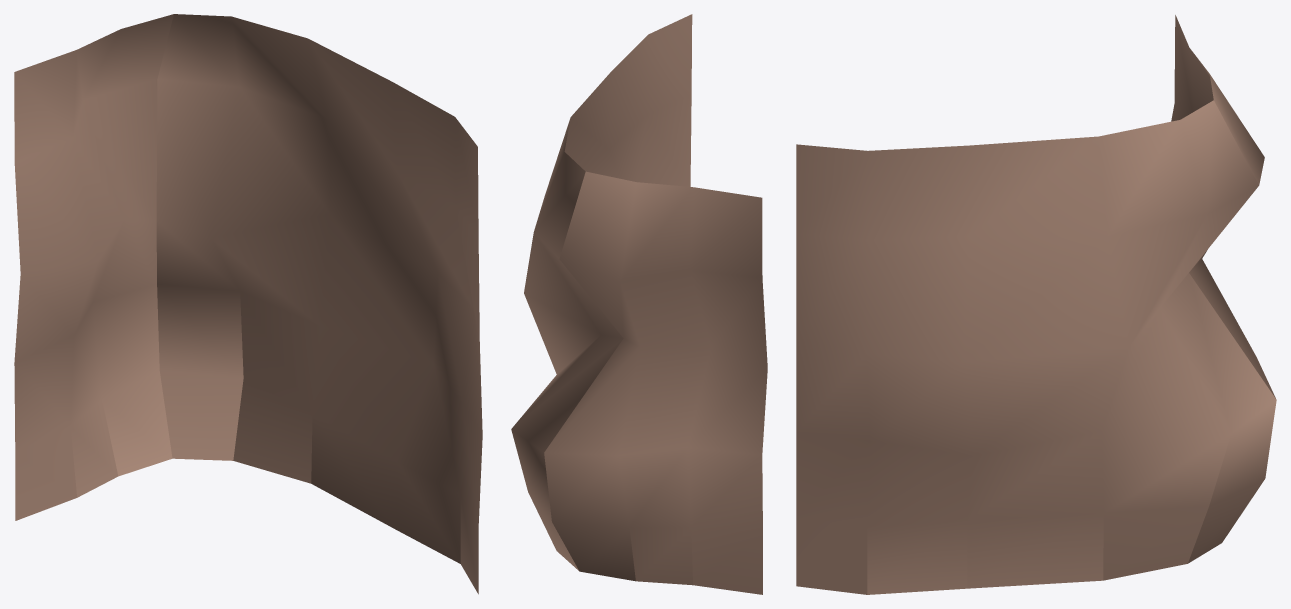
The model's file is corner middle 2.fbx.
3 views of the same model, side by side, from view 1: azimuth 30°, elevation 25°; view 2: azimuth 150°, elevation 25°; view 3: azimuth 270°, elevation 25° (orthographic). The views are drawn at different scales.
Parts seen in each view (by area): view 1: polySurface166; view 2: polySurface166; view 3: polySurface166.
Boxes of the visible parts, bbox=[...] form: polySurface166: bbox=[14, 14, 482, 594]; polySurface166: bbox=[511, 14, 767, 594]; polySurface166: bbox=[796, 15, 1276, 594].
Bounding box in the file's own units: 5.36 × 7.25 × 7.14.
